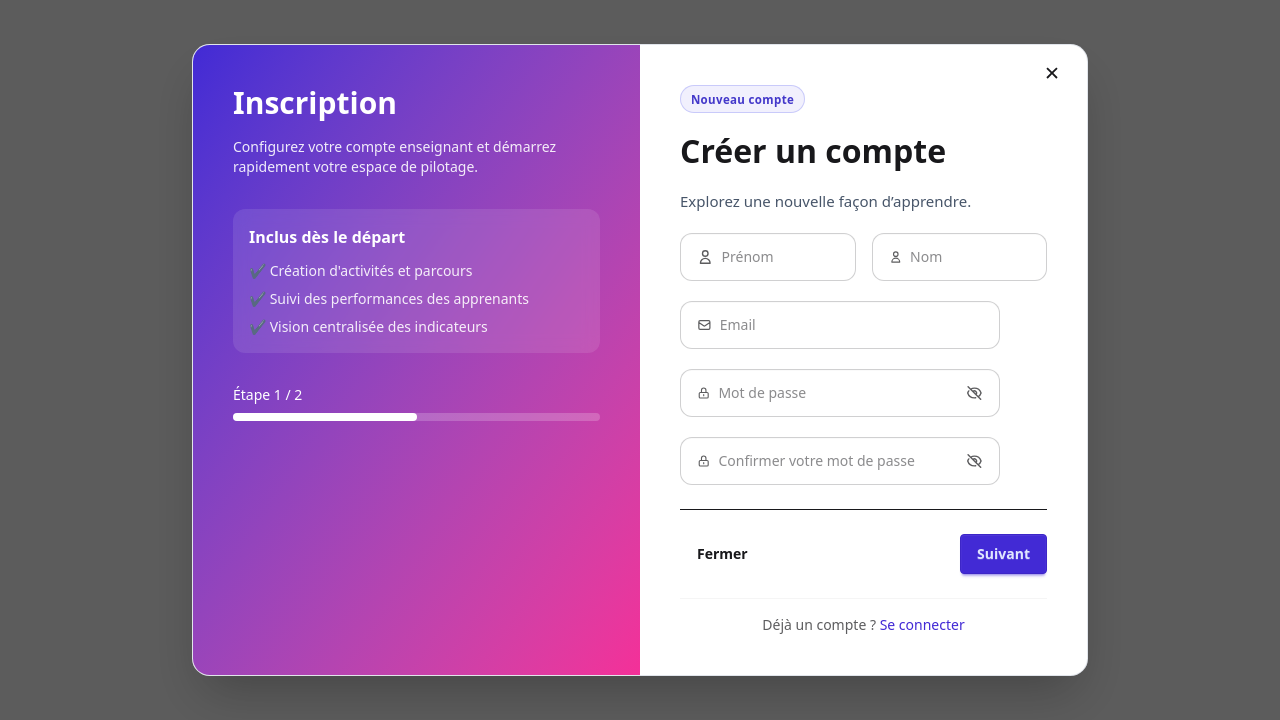
Test: RegisterModal › valide l’étape 1 et passe à l’étape 2
Submit the form named "Suivant", box [680,85,1047,574]
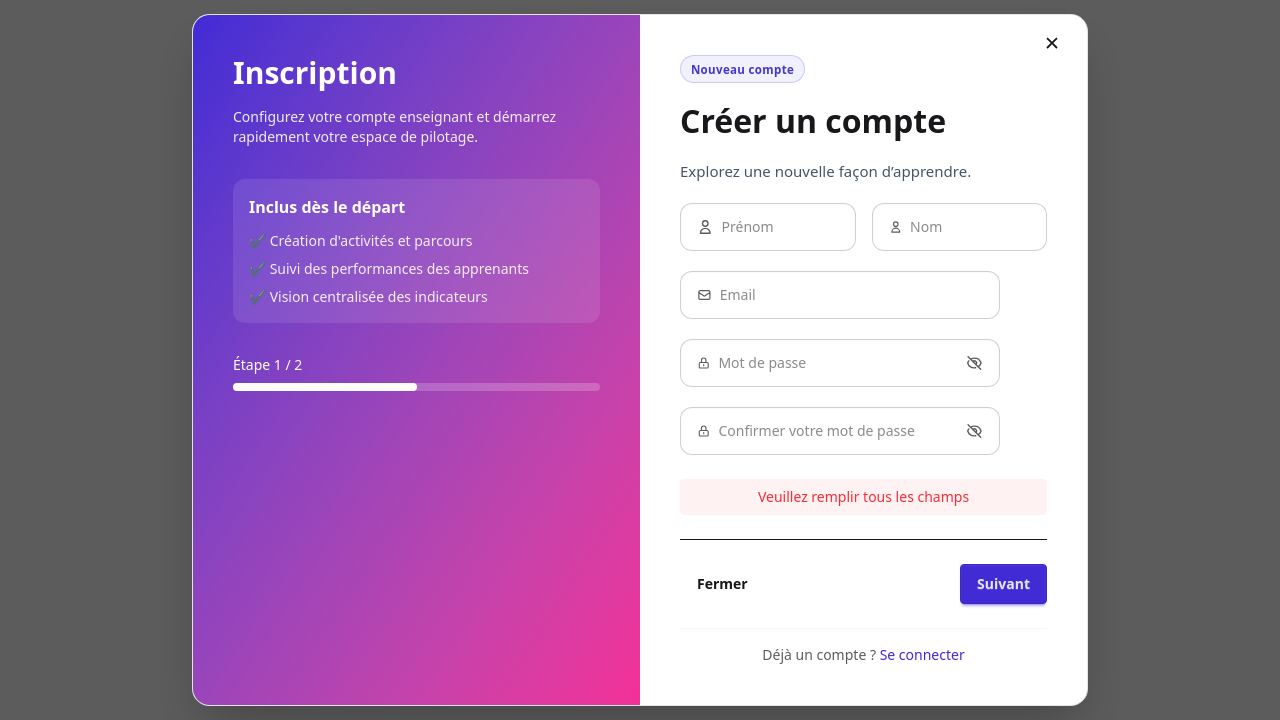
Now the text "Veuillez remplir tous les champs" is shown, box [680,479,1047,515]
In the field with placeholder "Prénom": (780, 227) [722,204,838,250], type "Jean"
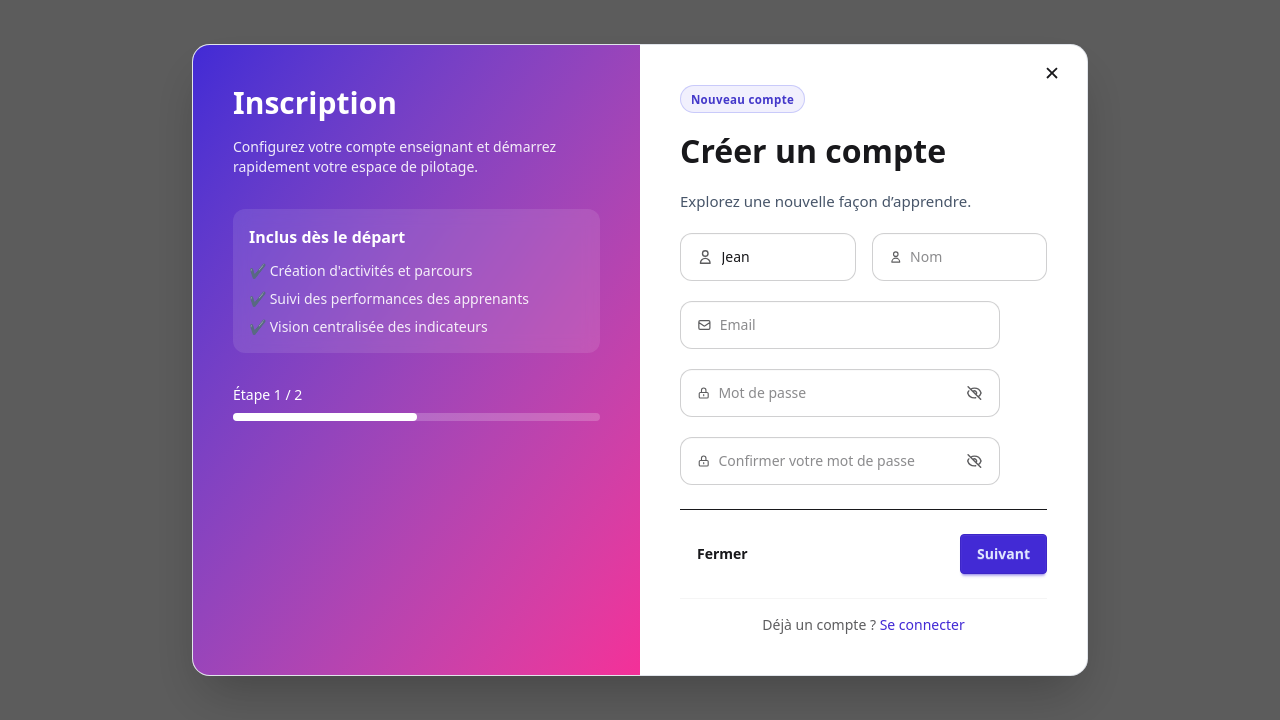
In the field with placeholder "Nom": (970, 257) [910,234,1030,280], type "Dupont"
In the field with placeholder "Email": (851, 325) [720,302,983,348], type "jean@test.fr"
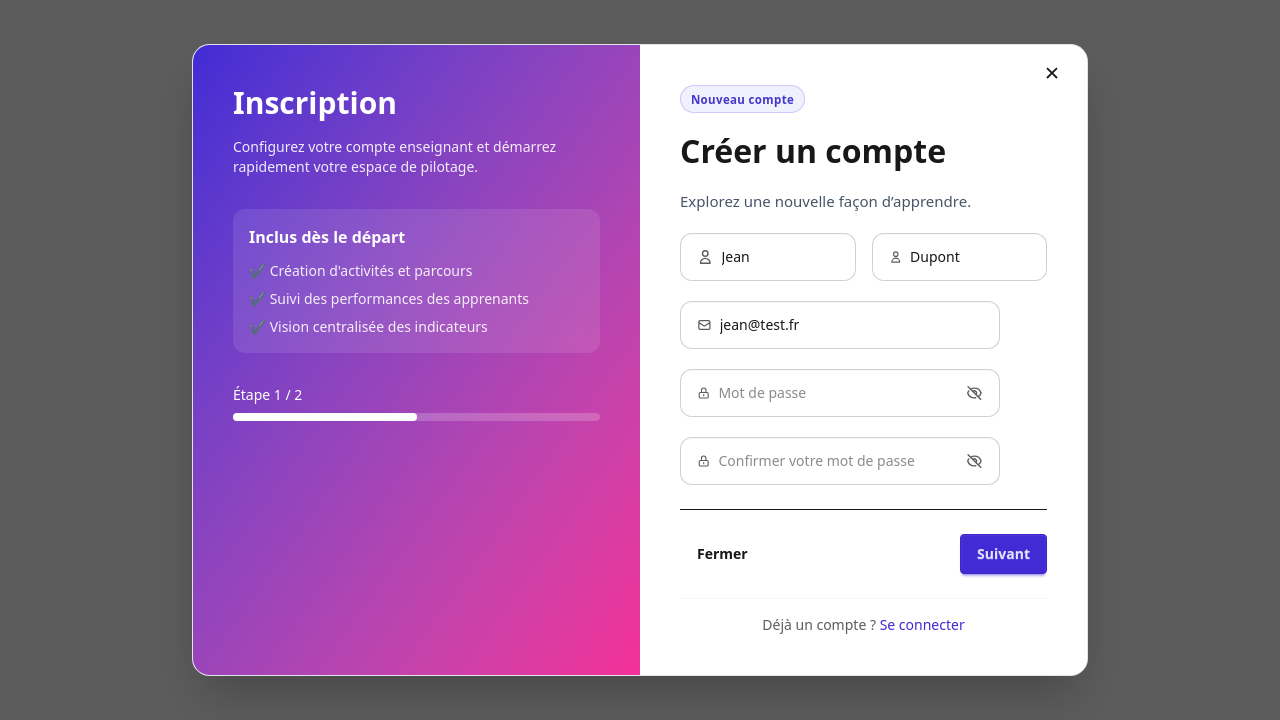
In the password field with placeholder "Mot de passe": (838, 393) [718,370,958,416], type "pass123"
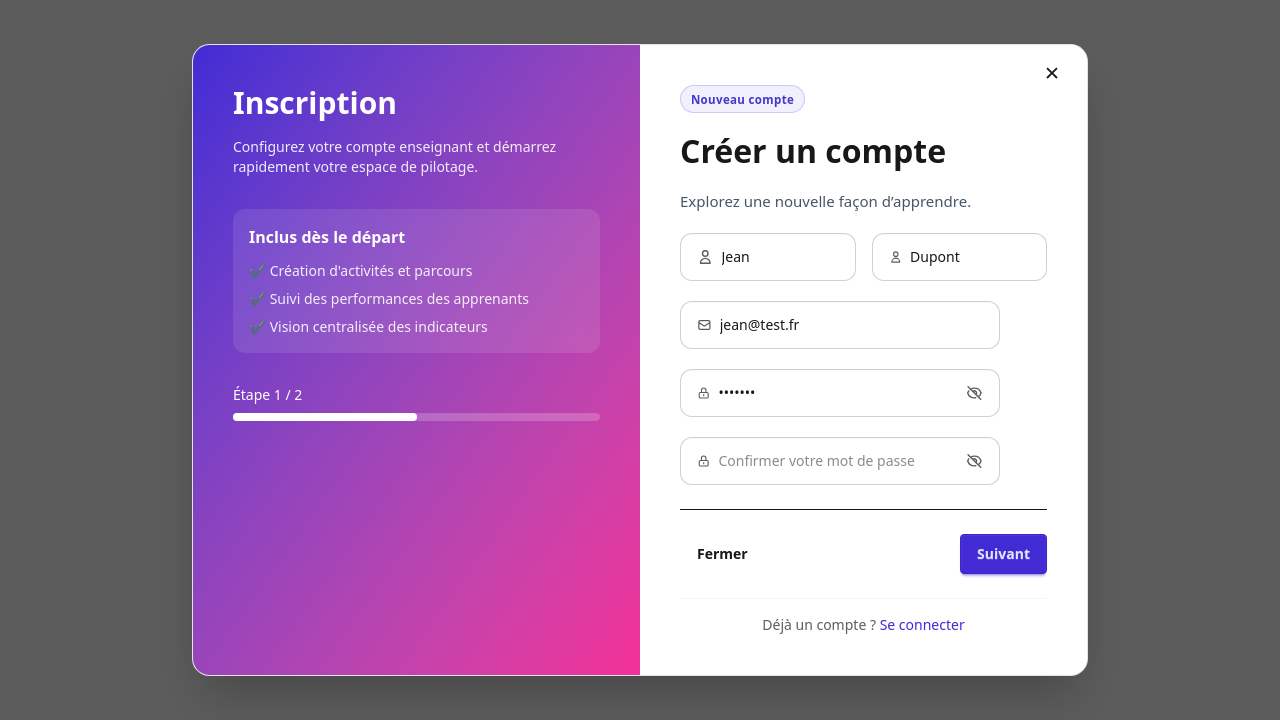
In the password field with placeholder "Confirmer votre mot de passe": (838, 461) [718,438,958,484], type "pass123"
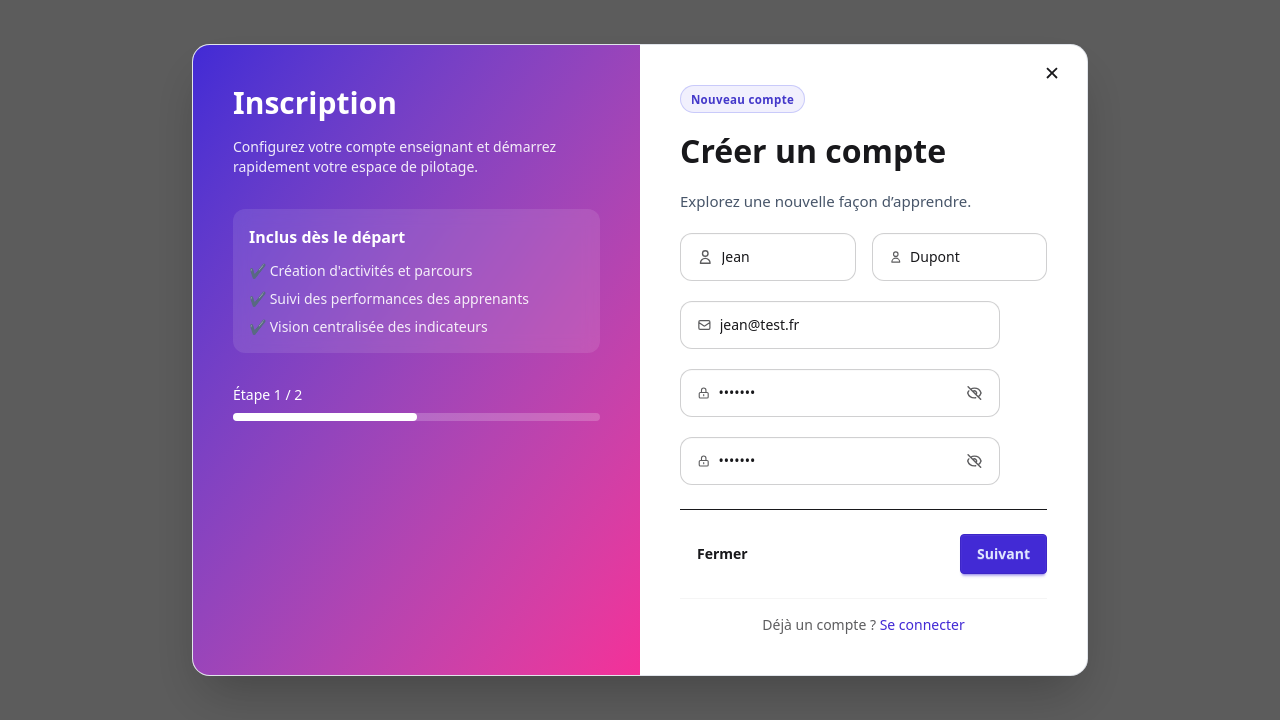
Click the button "Suivant": (1004, 554) [960,534,1047,574]
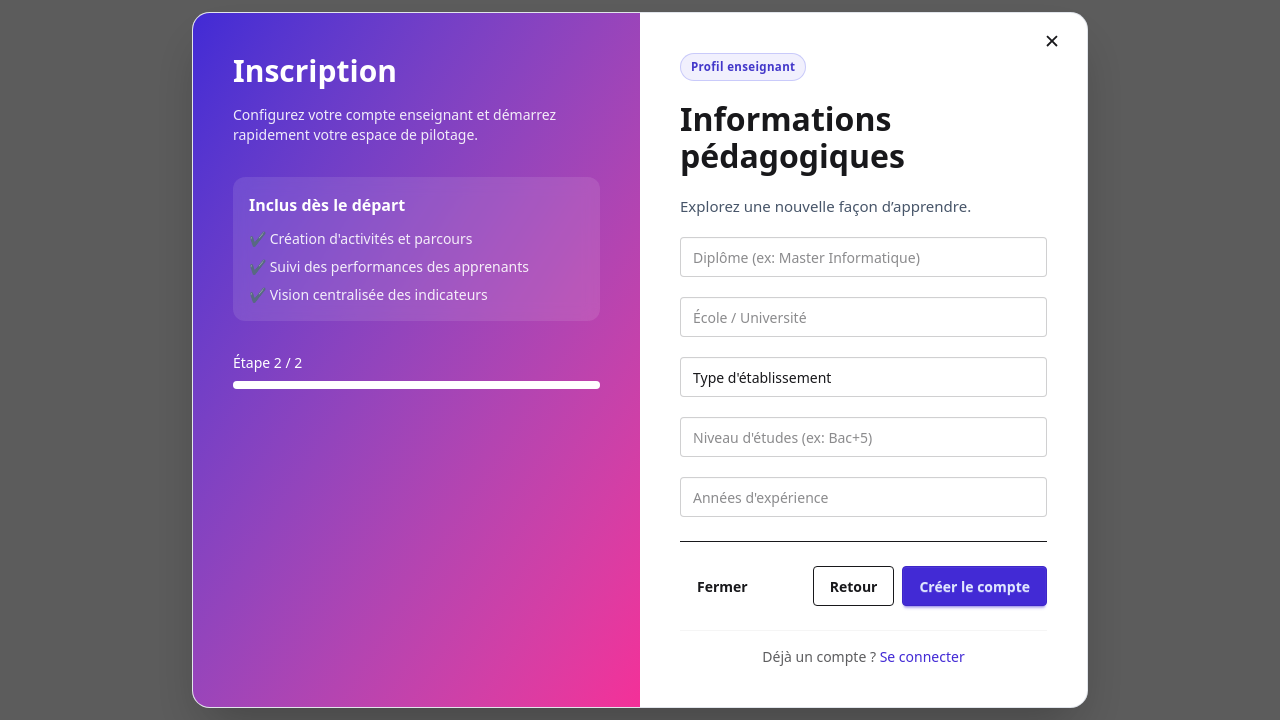
Now the heading "Informations pédagogiques" is shown, box [680,97,905,177]
